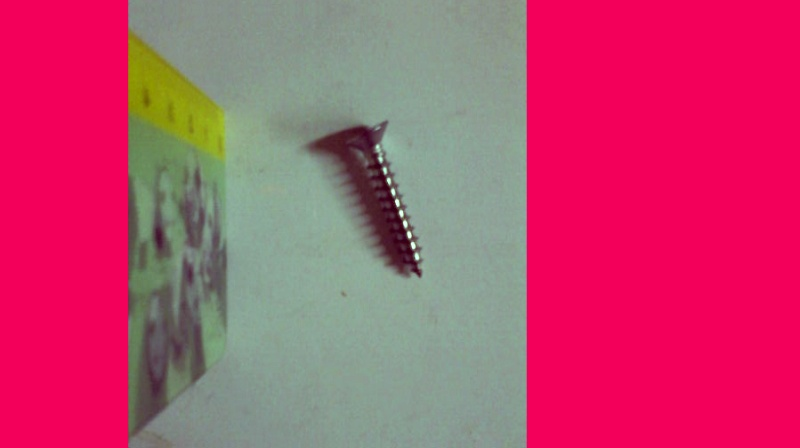S001: (344, 115, 427, 282)
